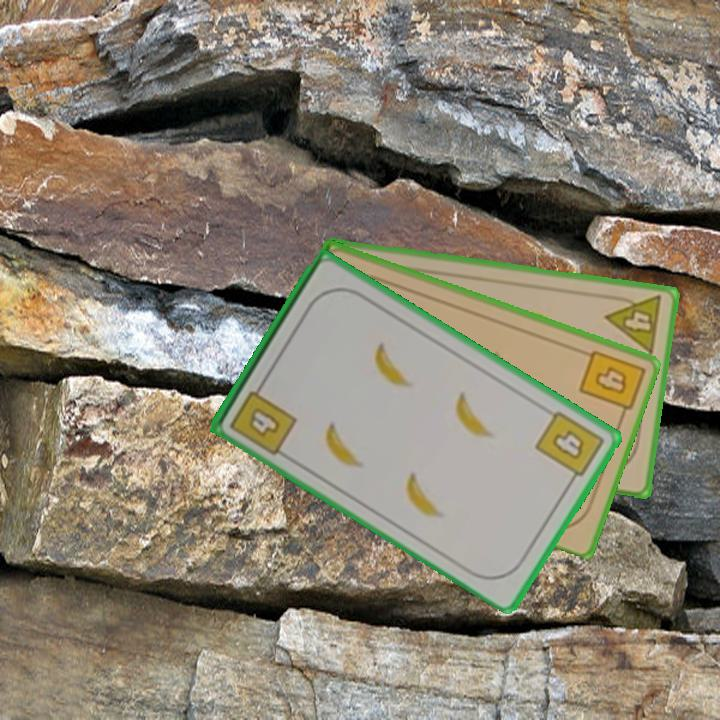4b: (531, 407, 607, 488), (226, 377, 300, 459), (575, 346, 647, 422)
4p: (602, 291, 665, 357)
